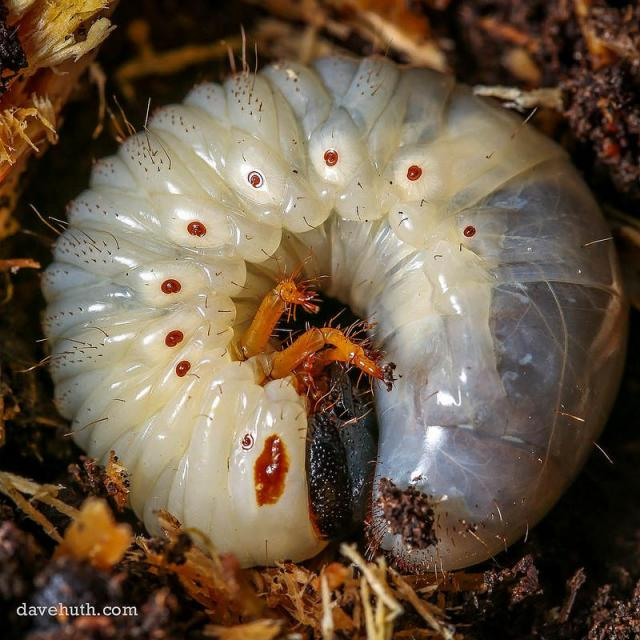Grub-Adult-: (38, 48, 626, 578)
